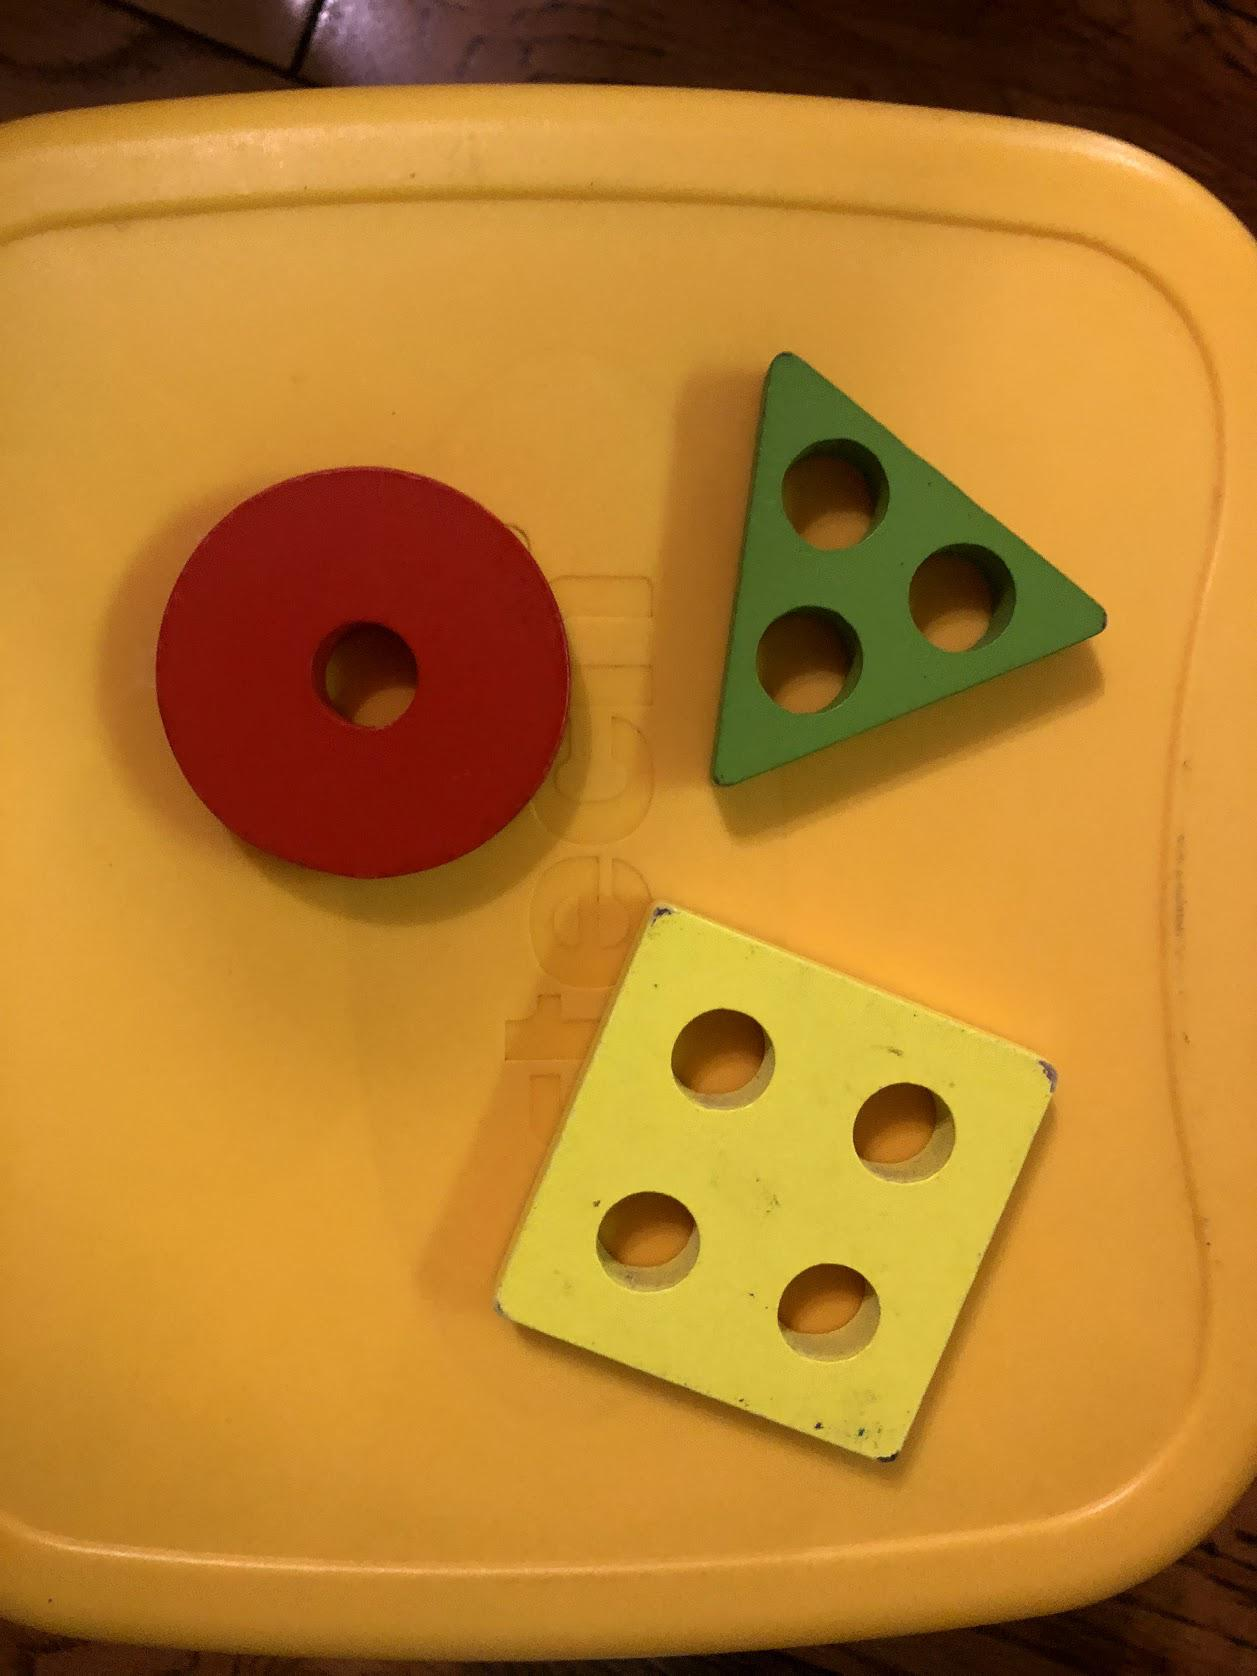Circle: (157, 463, 580, 880)
Square: (486, 897, 1058, 1470)
Triangle: (704, 350, 1112, 794)
